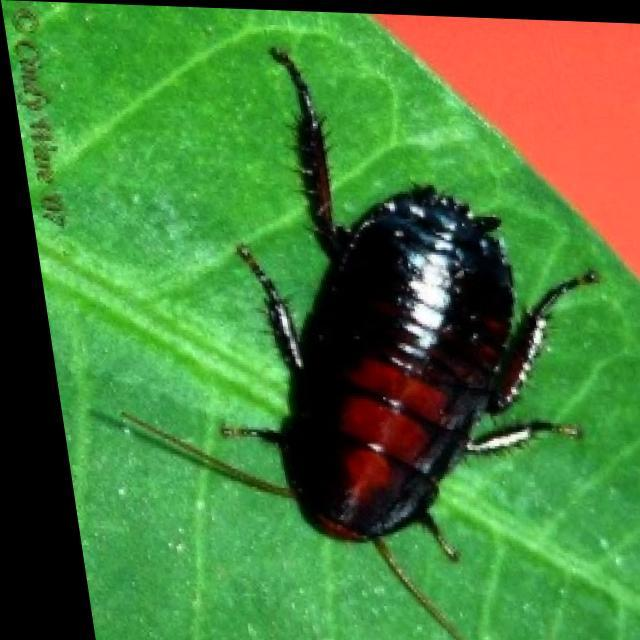cockroach: (113, 43, 603, 639)
